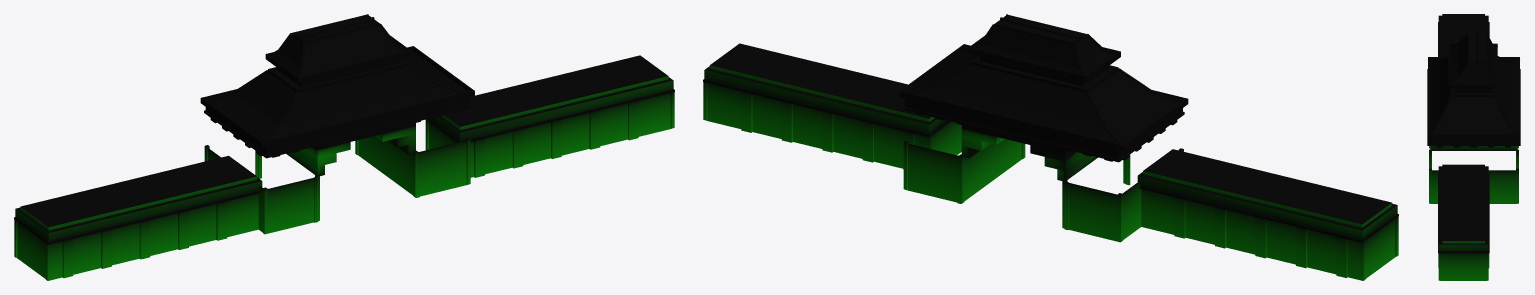
Rendered from l_palacegate.glb.
3 renders of one model, left to right at view 1: azimuth 30°, elevation 25°; view 2: azimuth 150°, elevation 25°; view 3: azimuth 270°, elevation 25°, orthographic. The views are drawn at different scales.
Parts seen in each view (by area): view 1: lod0; view 2: lod0; view 3: lod0.
Boxes of the visible parts, x1,y1,x2,y2 form: lod0: (14, 14, 674, 280); lod0: (703, 14, 1398, 280); lod0: (1427, 14, 1520, 280).
Size of what is drawn, in the model's own units: 58.7 by 14.34 by 10.1.
